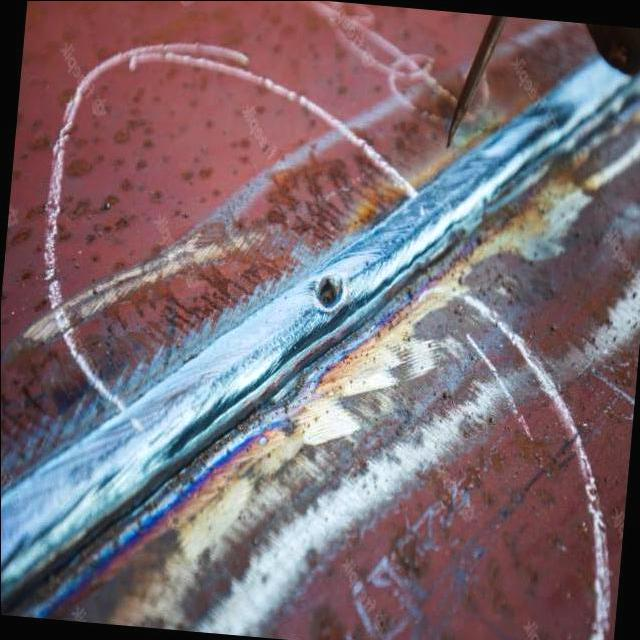defect: (311, 271, 346, 313)
